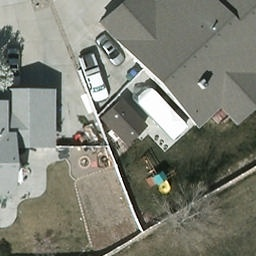camping car: (131, 84, 187, 138)
car: (92, 29, 128, 64)
pickup: (75, 53, 110, 105)
